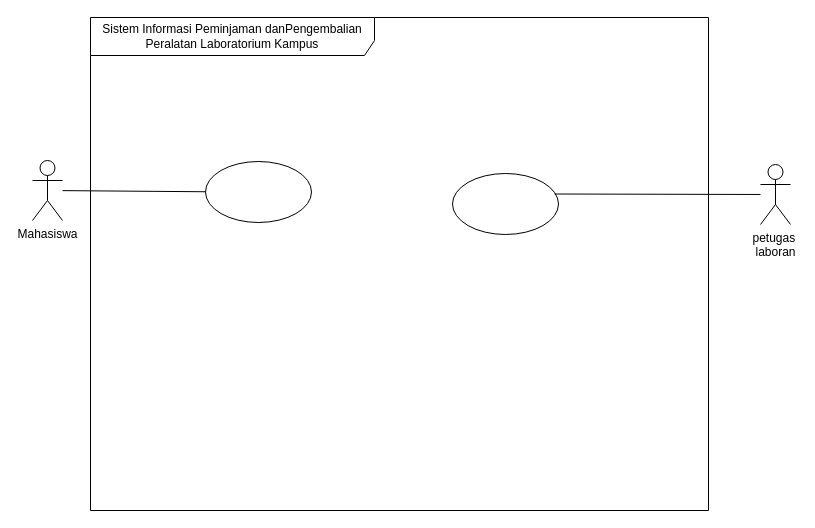
Image size: 815x528. Some labels were removed from this diagram. The shapes that lost their labels are listed below. From the top down, each one's centre as x and y in pixels, then its label:
At point (258, 191): "Lihat ketersediaan peralatan".
At point (505, 203): "Kelola data peralatan".
